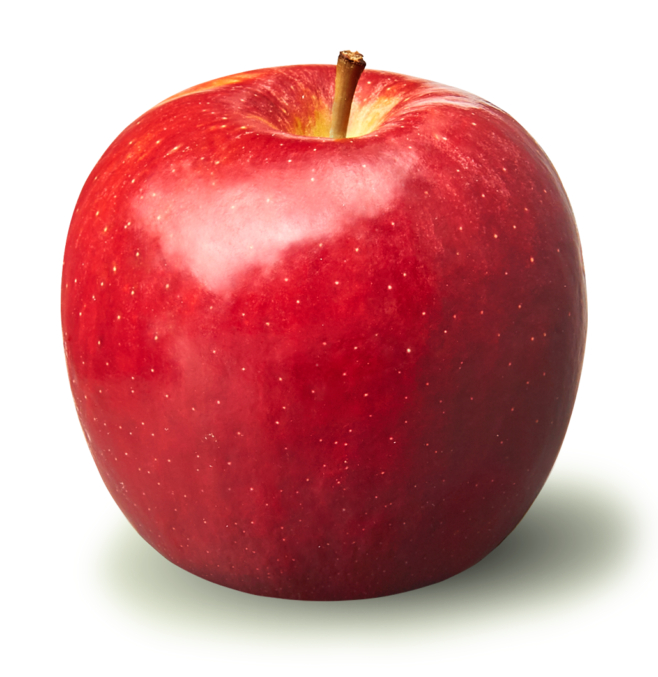apple: (55, 64, 590, 604)
